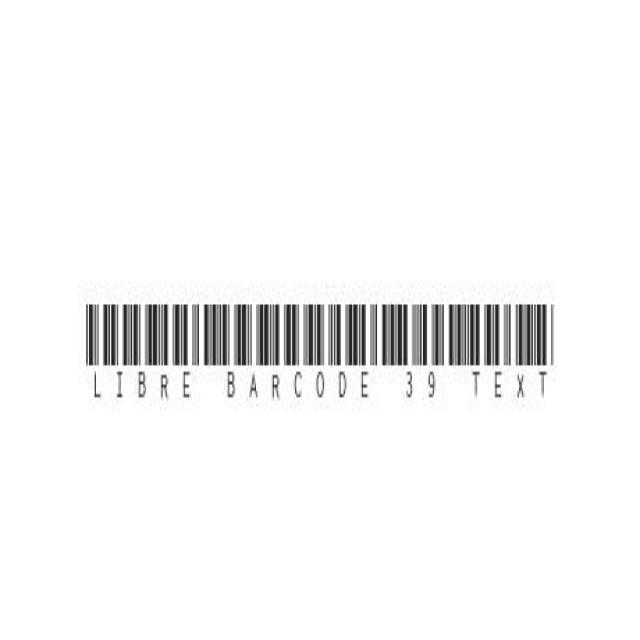Barkod: (80, 289, 562, 416)
